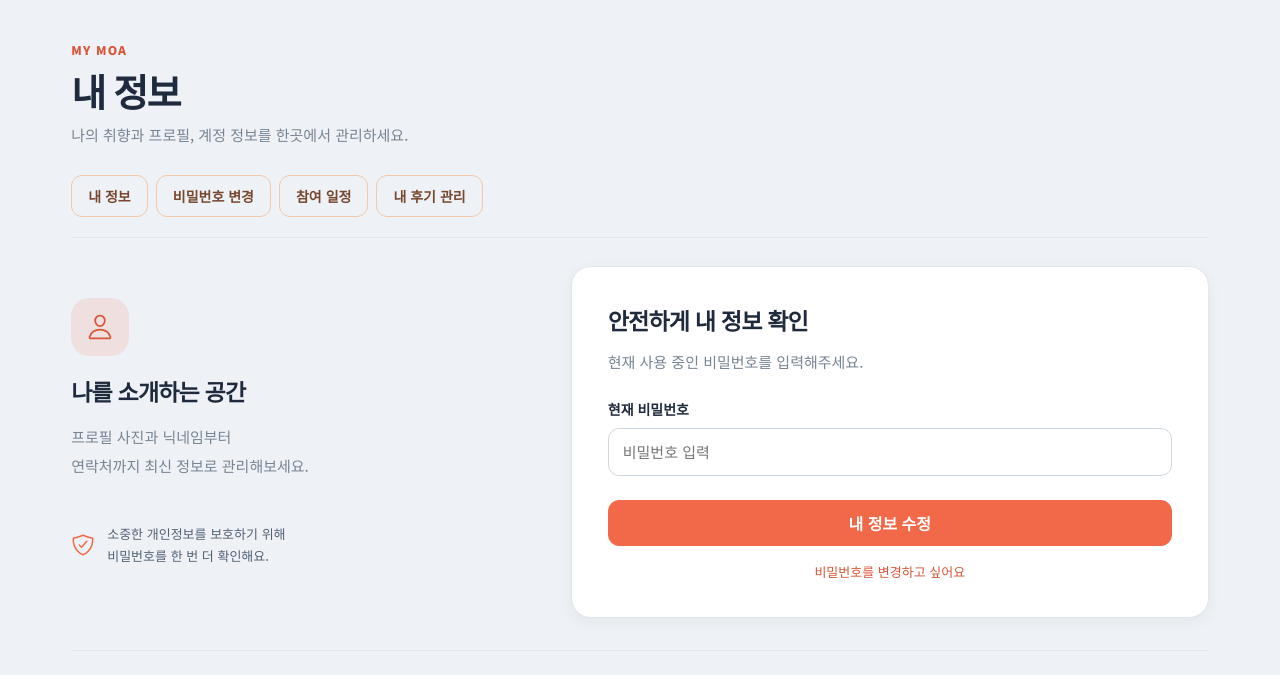
Scenario: account verification keeps empty passwords on the page with an inline error
What coordinates should you click on to do the following:
click the button "내 정보 수정"
I would click on:
 (890, 523)
Its box is [608, 500, 1172, 546].
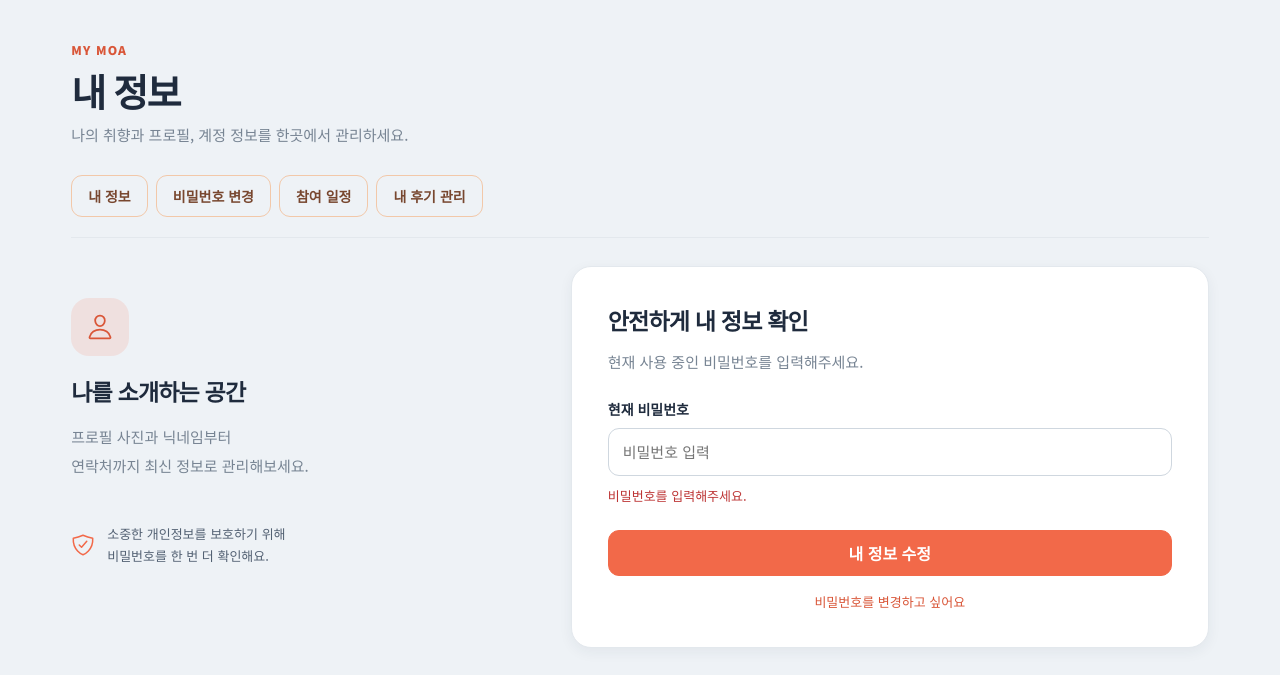
Now the message shows "비밀번호를 입력해주세요", box [608, 486, 747, 505]
